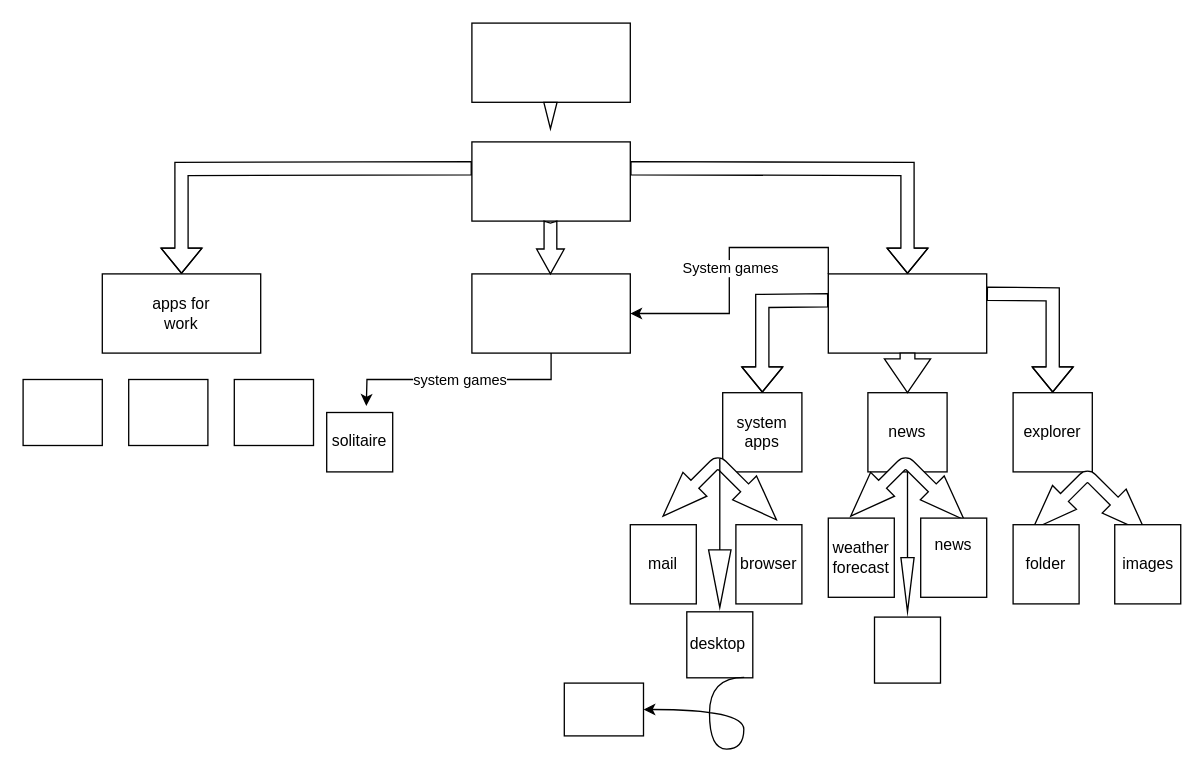
This 1204x772 diagram has some shape labels left out. Here are the shapes that lost their labels. From the top down, the box of each, then its label:
(471, 22, 630, 102): пользовательский интерфейс
(471, 141, 630, 221): widgets
(471, 273, 630, 353): games
(827, 273, 987, 353): embedded
(873, 616, 940, 683): calendar
(563, 682, 644, 736): music
